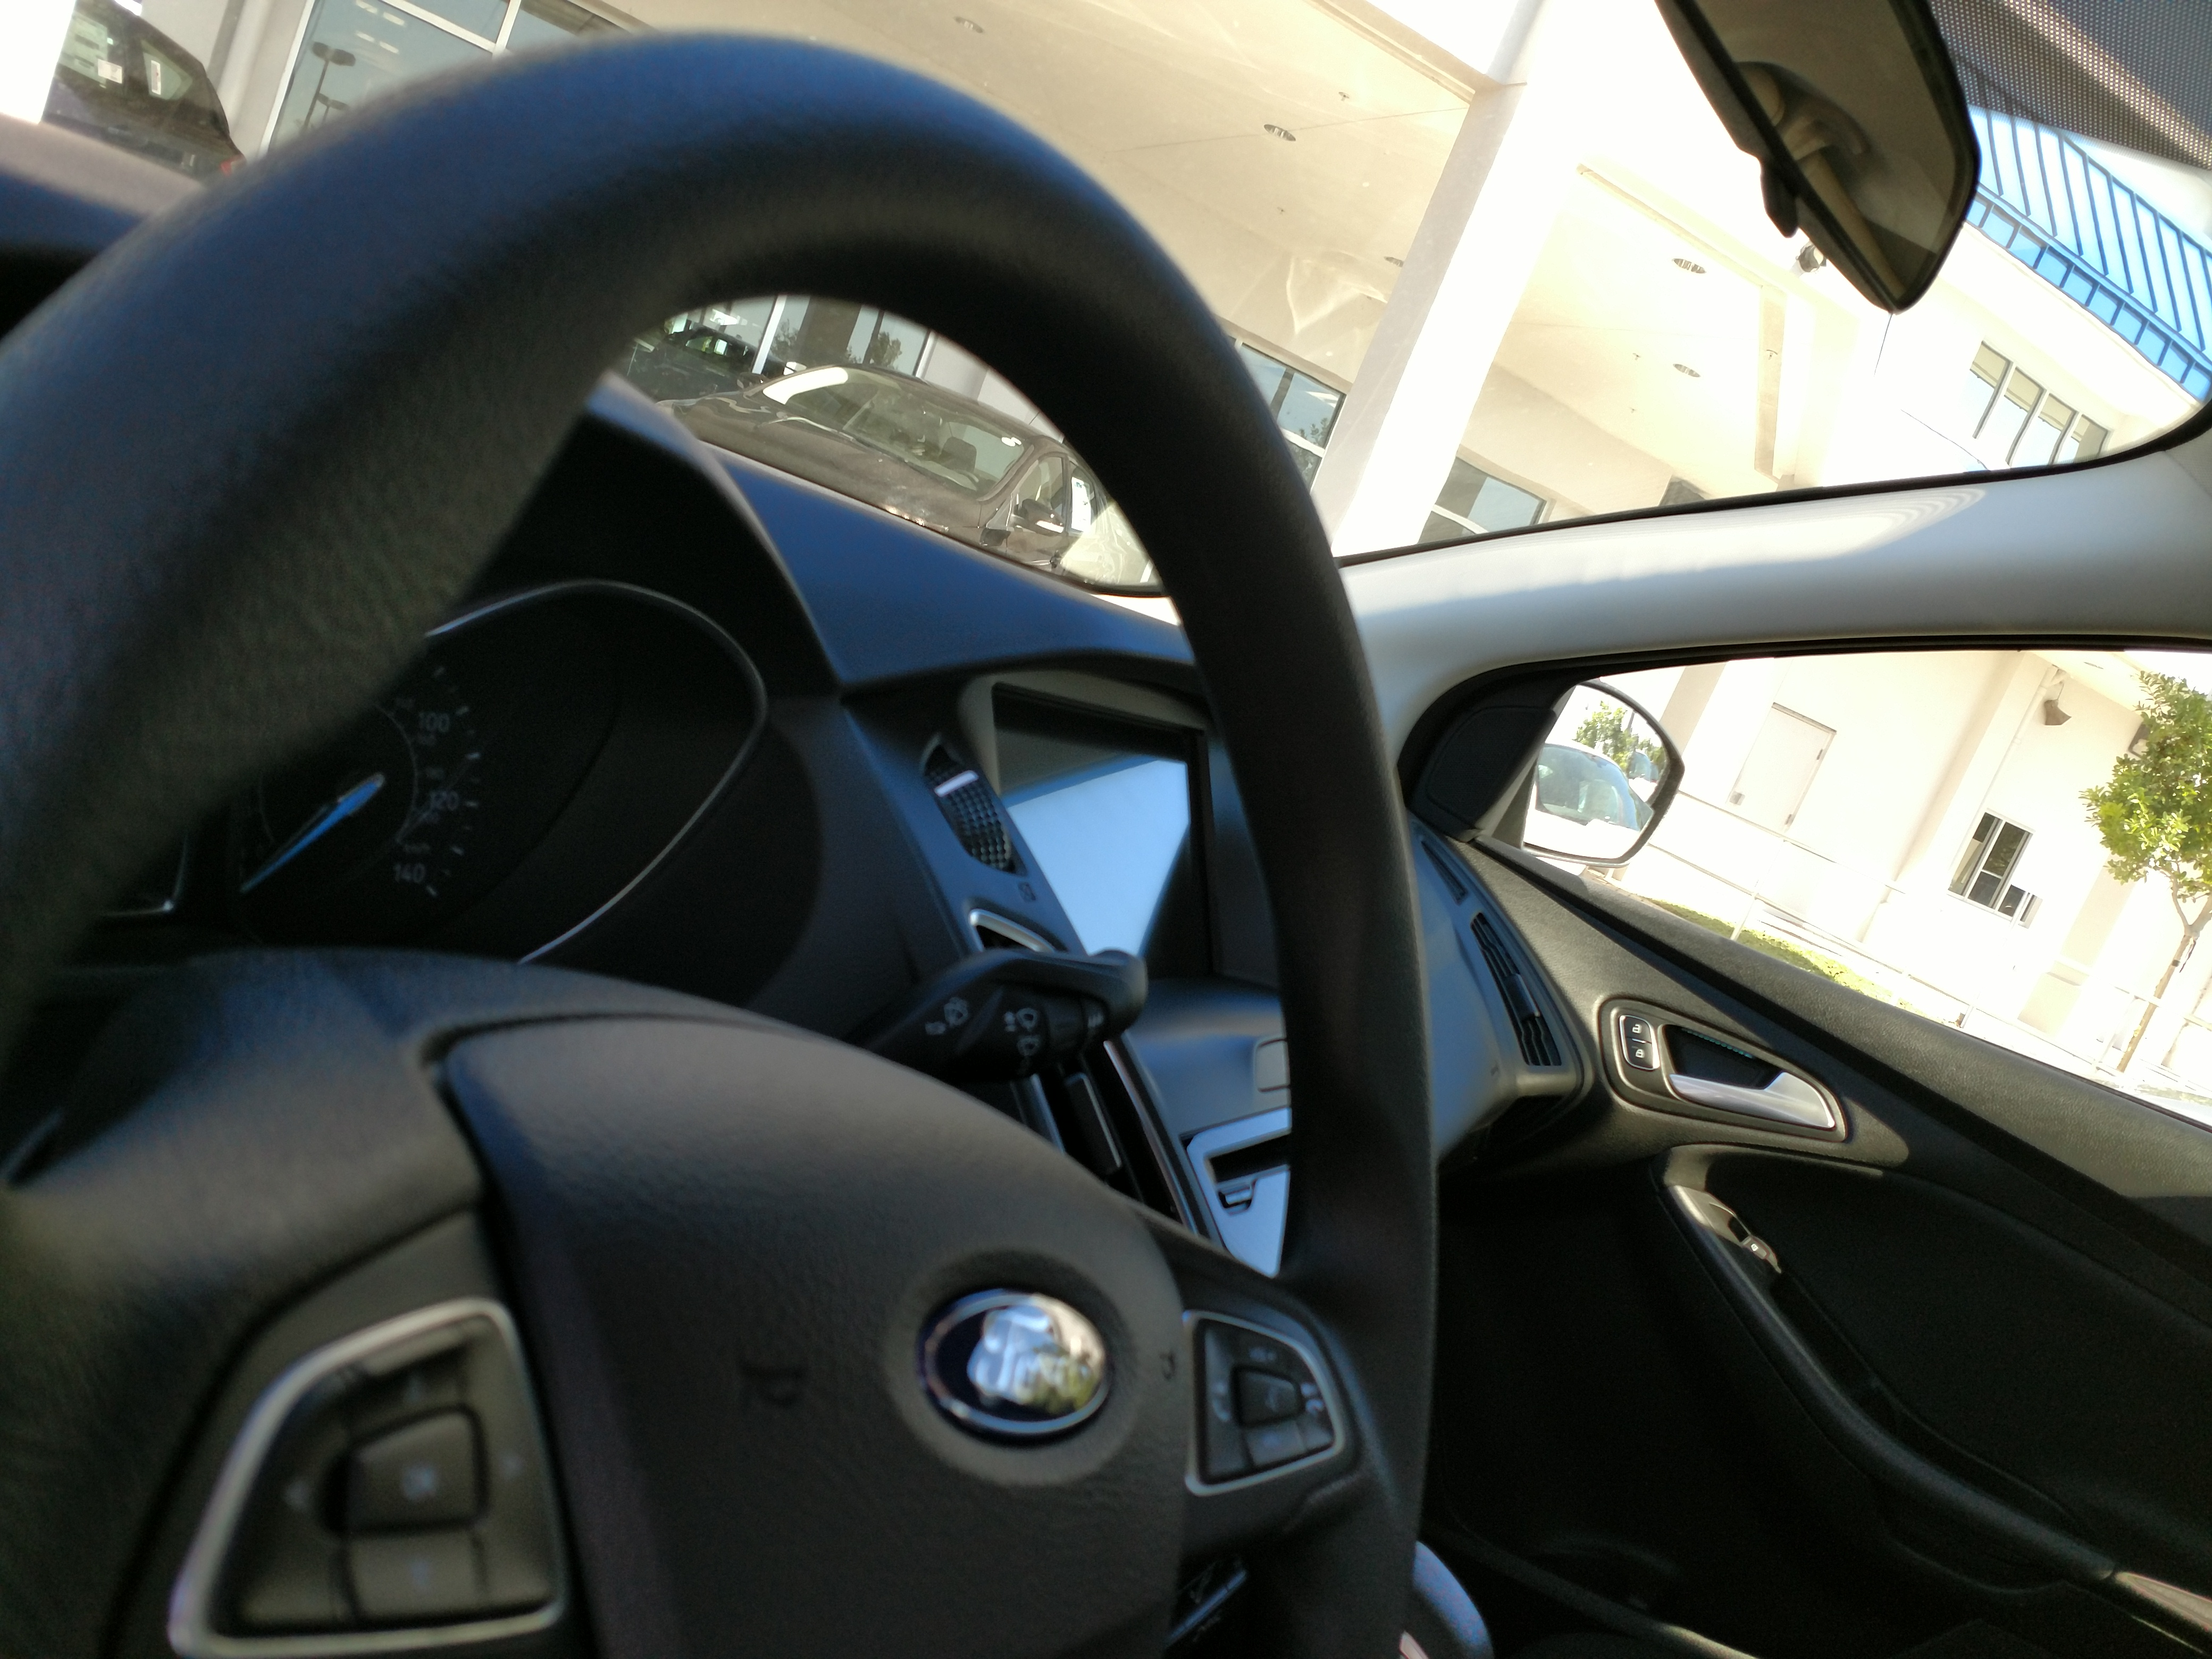Ford: (909, 1269, 1141, 1448)
